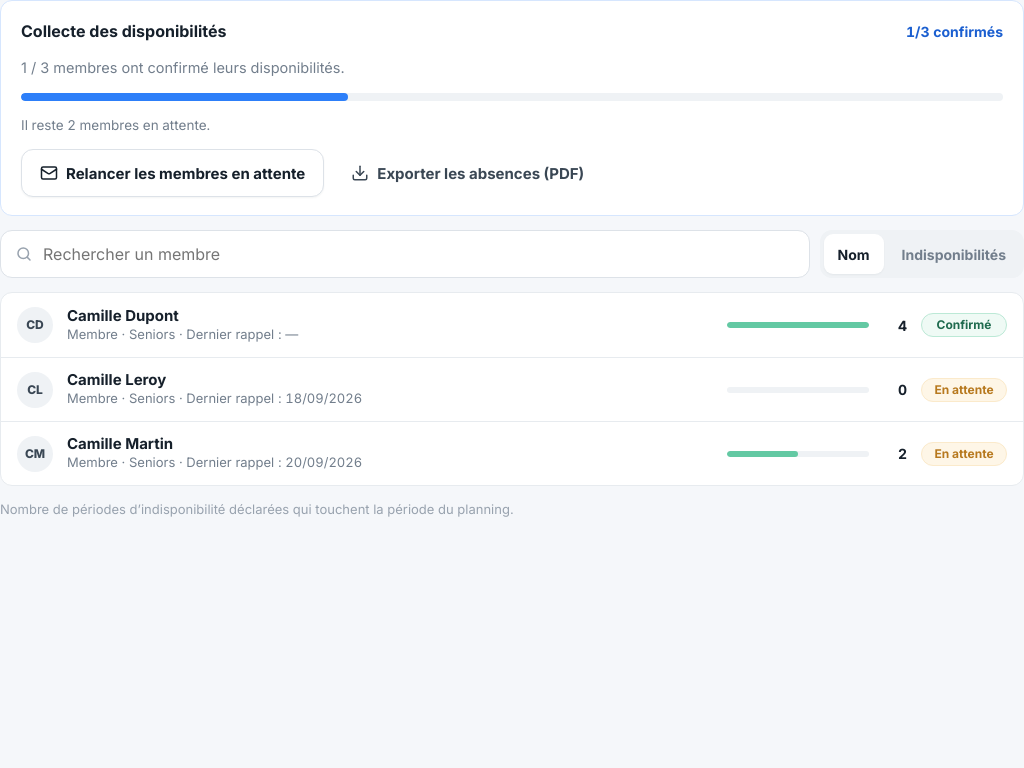
CollectionStatusPanel — member drawer › shows a pending member as "En attente" with no confirmation, even without any unavailability
Click the button "Camille Leroy" at (117, 380), box [67,370,166,389]
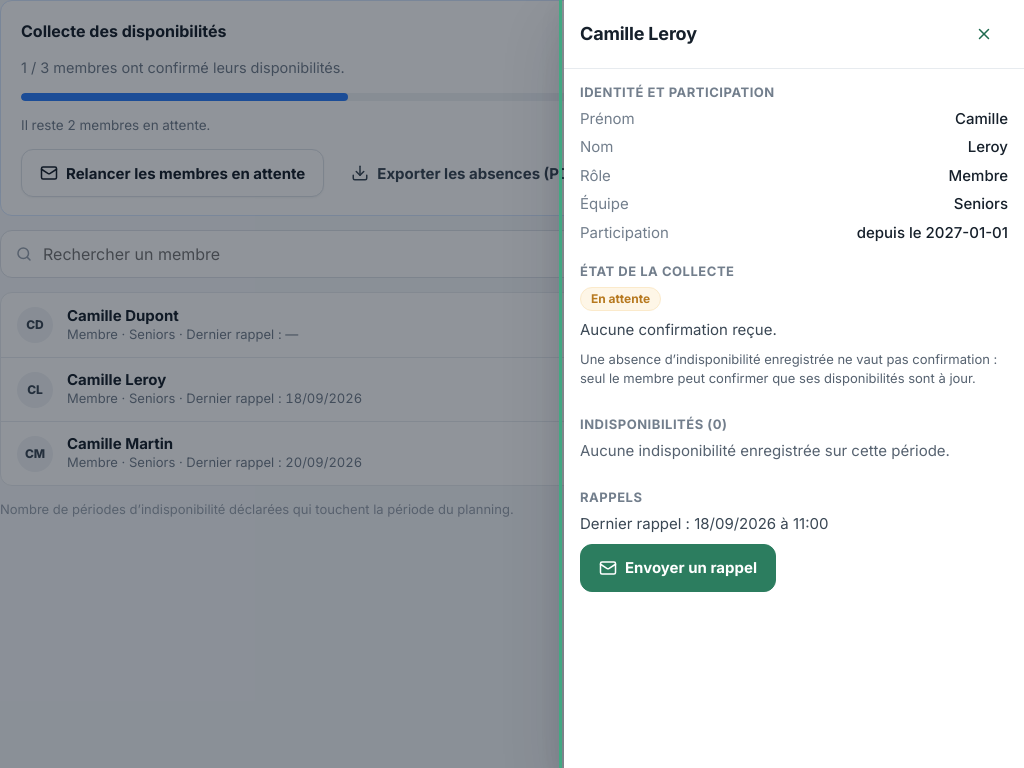
expect the text "Aucune indisponibilité enregistrée sur cette période." is shown: met, box [580,440,1008,462]
expect the text "En attente" is shown: met, box [580,287,661,311]
expect the text "Aucune confirmation reçue." is shown: met, box [580,320,777,339]
